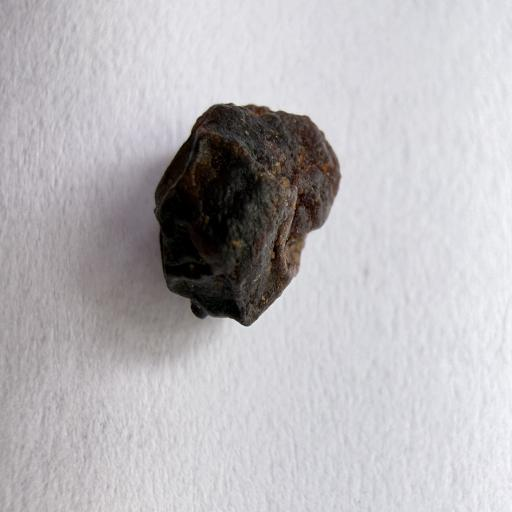Black_pepper: (151, 94, 346, 342)
